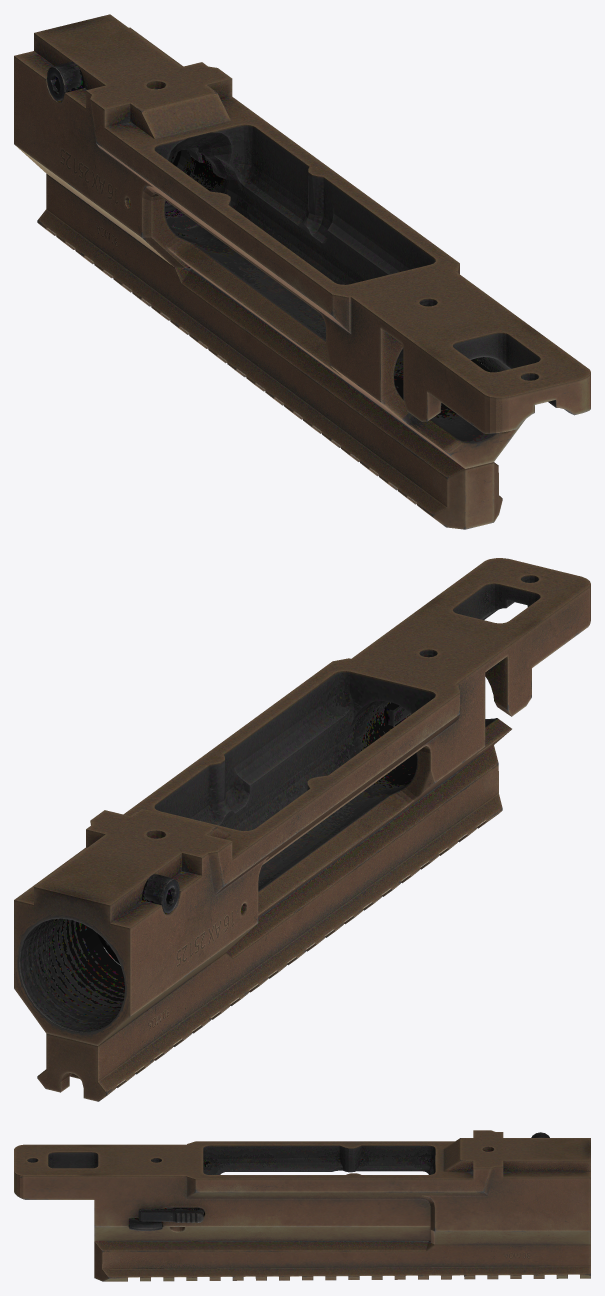
3 renders of one model, top to bottom at view 1: azimuth 30°, elevation 25°; view 2: azimuth 150°, elevation 25°; view 3: azimuth 270°, elevation 25°, orthographic. The views are drawn at different scales.
Visible parts, largest first — view 1: TW_62811fbf09427b40ab14e767_PZ_Import; view 2: TW_62811fbf09427b40ab14e767_PZ_Import; view 3: TW_62811fbf09427b40ab14e767_PZ_Import.
Boxes of the visible parts, left/top/right/bottom form: TW_62811fbf09427b40ab14e767_PZ_Import: left=14, top=14, right=590, bottom=529; TW_62811fbf09427b40ab14e767_PZ_Import: left=14, top=558, right=590, bottom=1101; TW_62811fbf09427b40ab14e767_PZ_Import: left=14, top=1130, right=590, bottom=1281.
Bounding box in the file's own units: 0.0233 × 0.1442 × 0.0343.
1 material, 1 textured.
